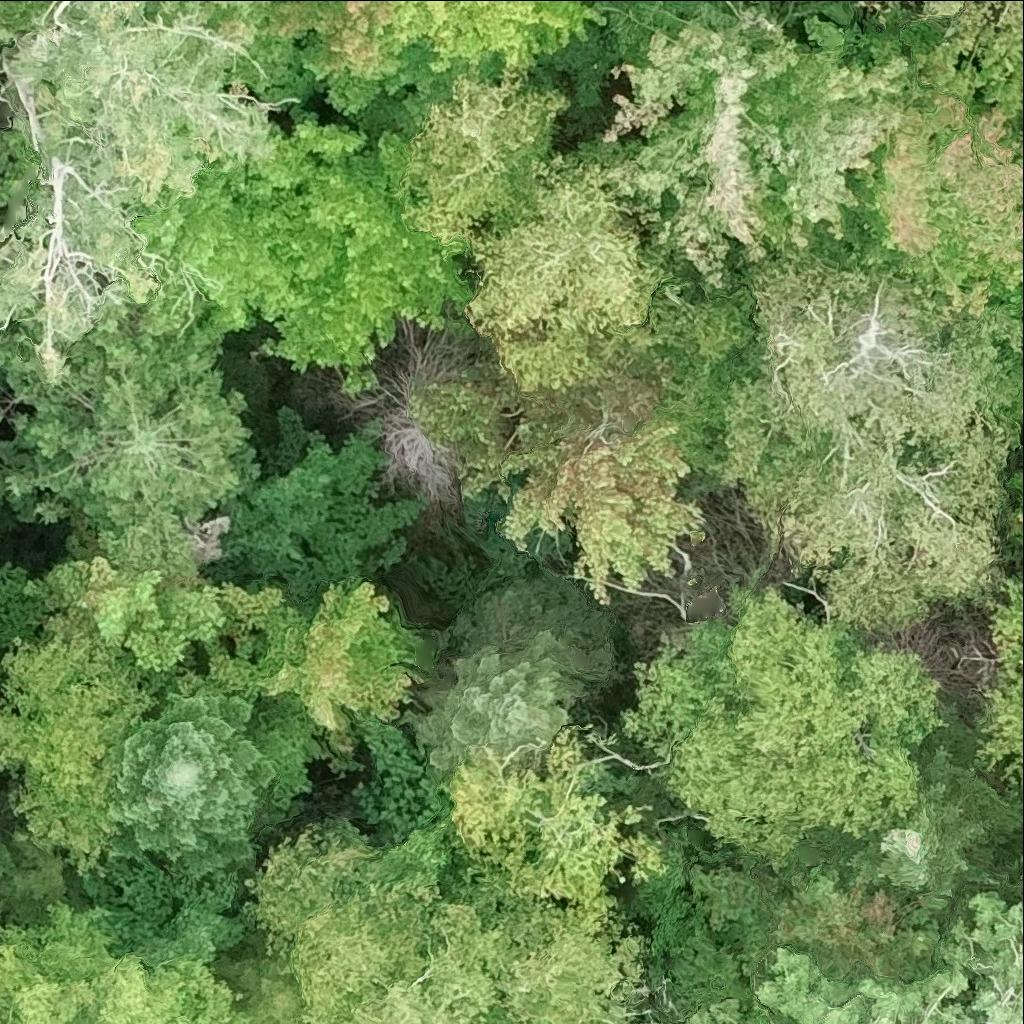crown: (711, 240, 1015, 632), (631, 590, 949, 854), (406, 324, 708, 599), (596, 13, 906, 277), (251, 819, 642, 1023), (0, 278, 258, 572), (854, 0, 1023, 333), (0, 0, 270, 199), (261, 139, 470, 391), (124, 126, 367, 332), (463, 161, 673, 394), (693, 889, 1023, 1023), (0, 608, 162, 852), (448, 728, 667, 908), (404, 585, 616, 766), (0, 138, 157, 379), (689, 850, 953, 983), (394, 62, 568, 263), (200, 582, 420, 727), (110, 696, 274, 877), (0, 905, 238, 1023), (852, 753, 1023, 905), (332, 340, 487, 504), (28, 553, 229, 669), (253, 0, 438, 114), (386, 0, 592, 83), (977, 584, 1023, 780), (235, 976, 313, 1023), (1009, 472, 1023, 543), (931, 0, 956, 12)
